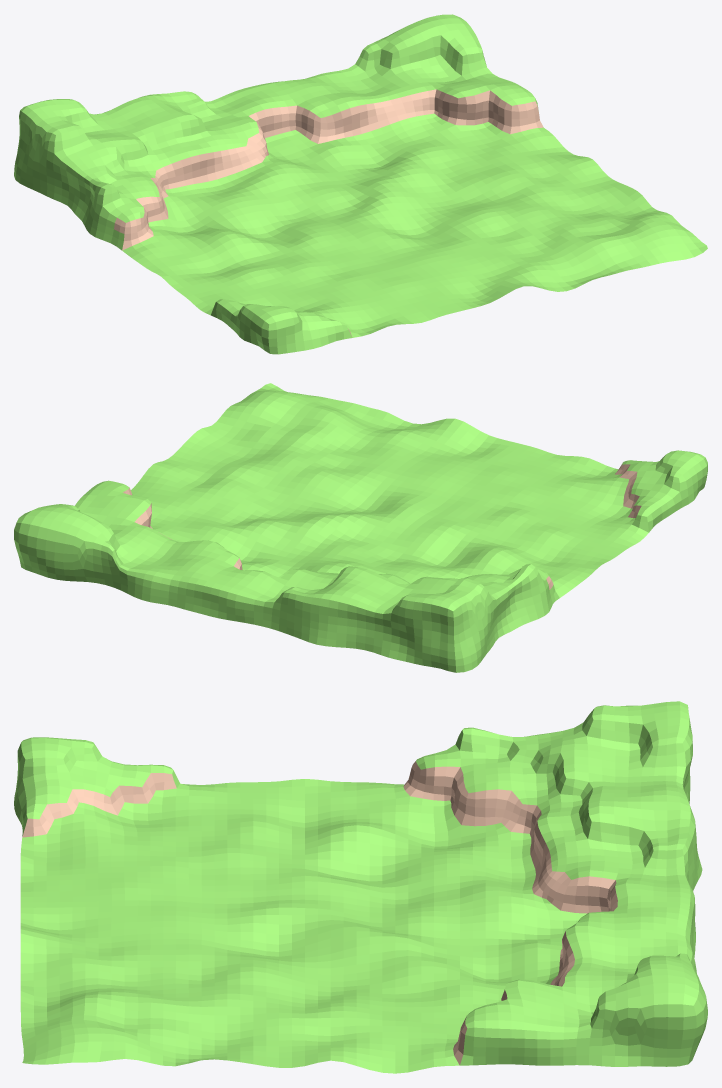
The model's file is TANAH.fbx.
3 views of the same model, one above another, from view 1: azimuth 30°, elevation 25°; view 2: azimuth 150°, elevation 25°; view 3: azimuth 270°, elevation 25° (orthographic). The views are drawn at different scales.
Parts seen in each view (by area): view 1: Tanah; view 2: Tanah; view 3: Tanah.
Part boxes in pixels (left/top/right/bottom): Tanah: left=14, top=14, right=707, bottom=354; Tanah: left=14, top=383, right=707, bottom=672; Tanah: left=14, top=701, right=707, bottom=1073.
Size of the model in its own units: 20536 by 3274 by 20647.
